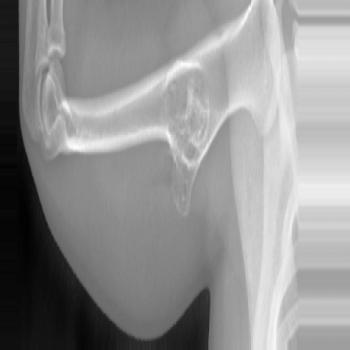Fracture: (160, 55, 214, 173)
